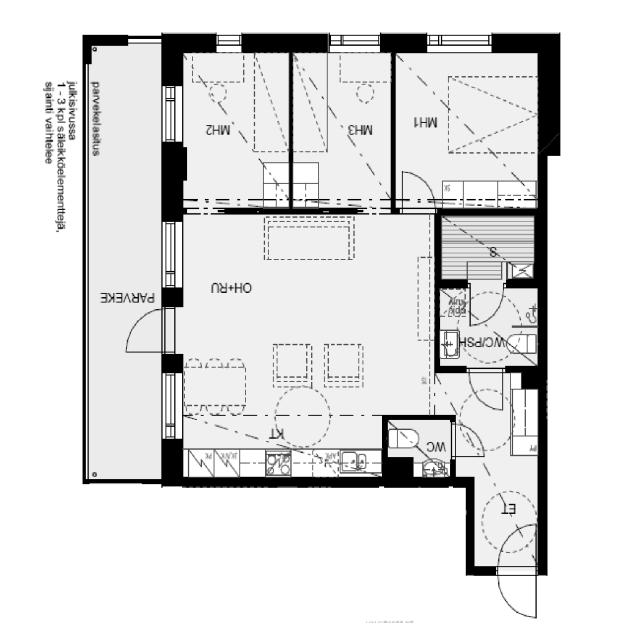door: (164, 209, 442, 420), (390, 50, 538, 208), (176, 53, 289, 213), (291, 51, 394, 211), (430, 283, 532, 368), (436, 207, 540, 287), (381, 418, 449, 484)
window: (419, 26, 496, 56), (156, 217, 184, 293), (156, 367, 183, 444), (158, 83, 182, 147), (321, 27, 379, 53), (206, 28, 249, 60)
zone: (494, 512, 538, 624), (116, 306, 170, 354), (470, 361, 506, 418), (401, 165, 438, 216), (467, 278, 503, 326), (447, 422, 485, 459)
